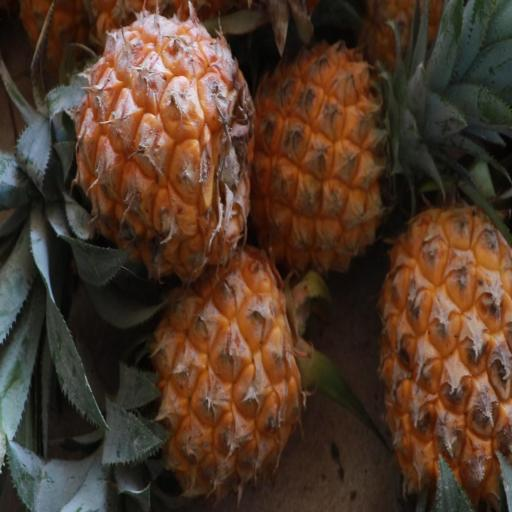Pineapple - v8 v1: (6, 0, 260, 294), (122, 234, 309, 508), (252, 30, 431, 286), (370, 198, 512, 512)
